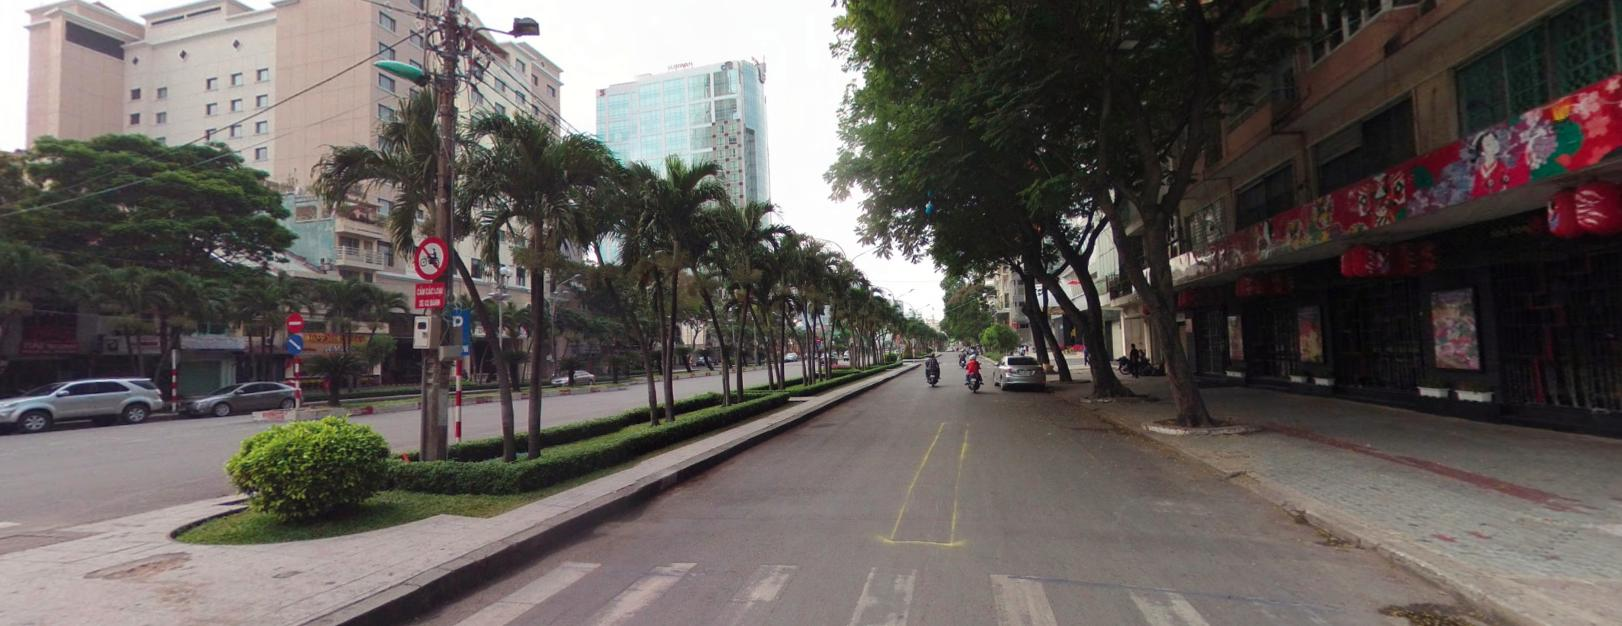Cam con lai: (413, 235, 448, 278), (895, 332, 900, 336)
Cam nguoc chieu: (285, 311, 303, 330), (815, 336, 819, 341)
Hieu lenh: (286, 333, 303, 352), (815, 342, 819, 346)
